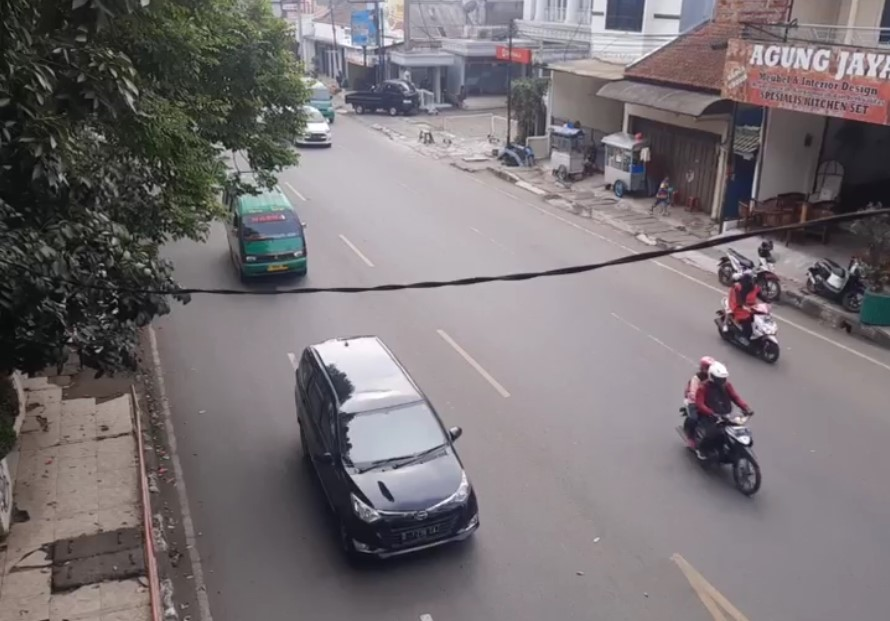mobil: (288, 334, 483, 556), (206, 165, 313, 283)
motor: (682, 358, 759, 499), (715, 272, 784, 364)
